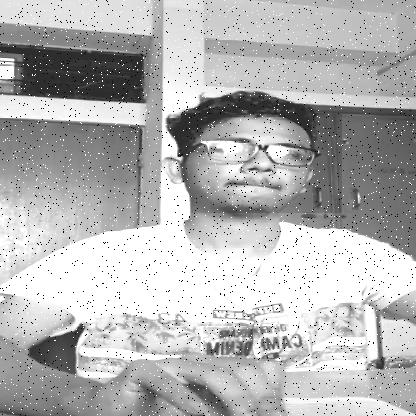Normal: (181, 113, 342, 214)
